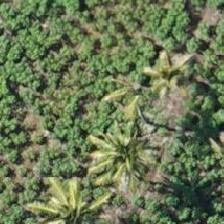coconut_tree: (80, 52, 170, 142), (119, 30, 209, 120), (80, 101, 170, 191), (18, 161, 108, 223)
